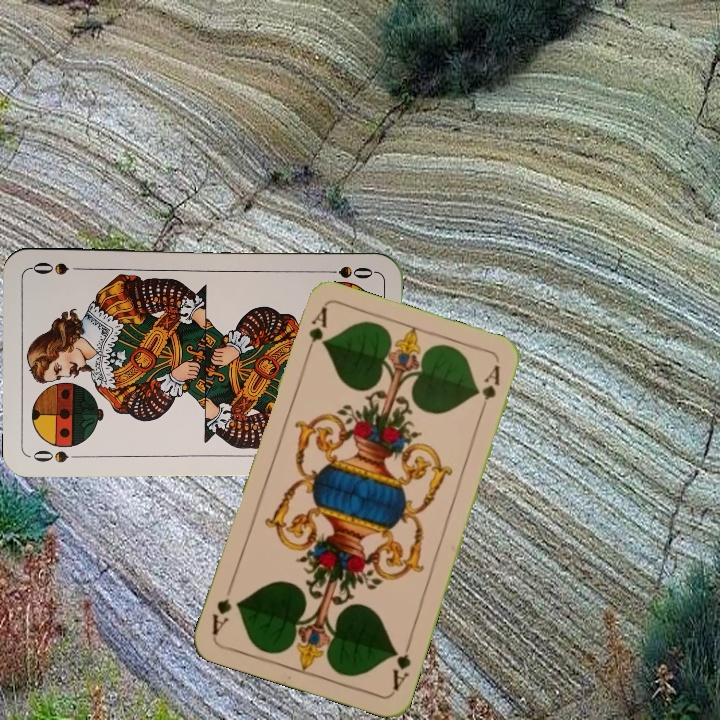GA: (301, 303, 330, 361), (388, 636, 415, 693)
SO: (318, 262, 377, 282), (28, 445, 86, 465)
